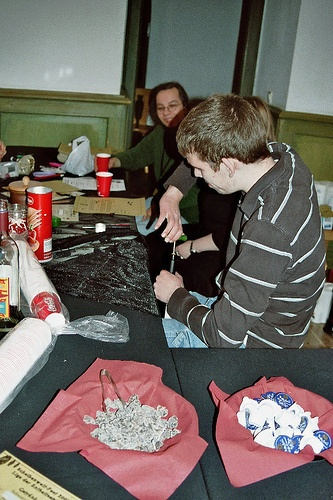head: (176, 94, 271, 196), (148, 81, 189, 136)
person: (145, 91, 324, 351), (99, 79, 198, 291)
